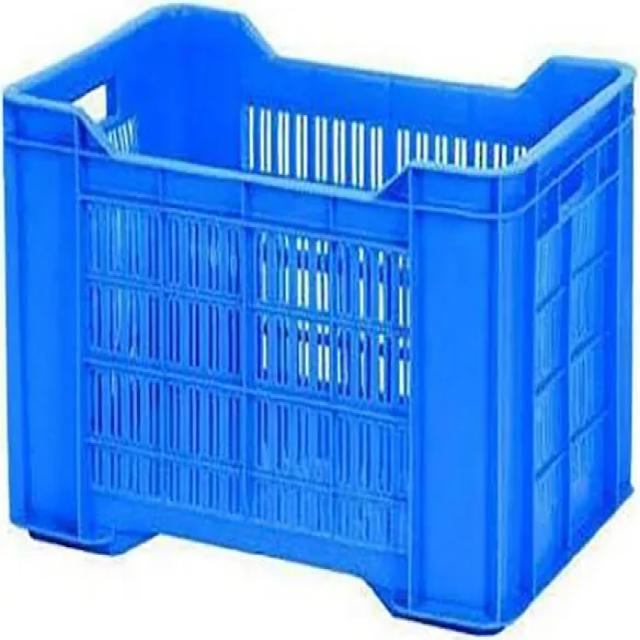plastic_box: (0, 13, 639, 573)
